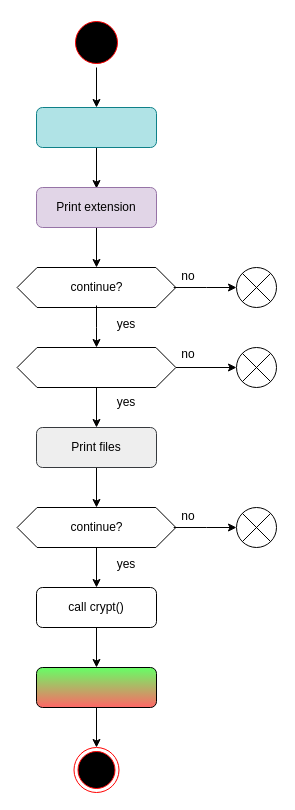
Image size: 295x810. Some labels were removed from this diagram. The centre of each missing label's shape, as x and y in pixels:
"file match extension?" belongs at (x=96, y=367).
"HMI" belongs at (x=96, y=127).
"print process" belongs at (x=96, y=687).
